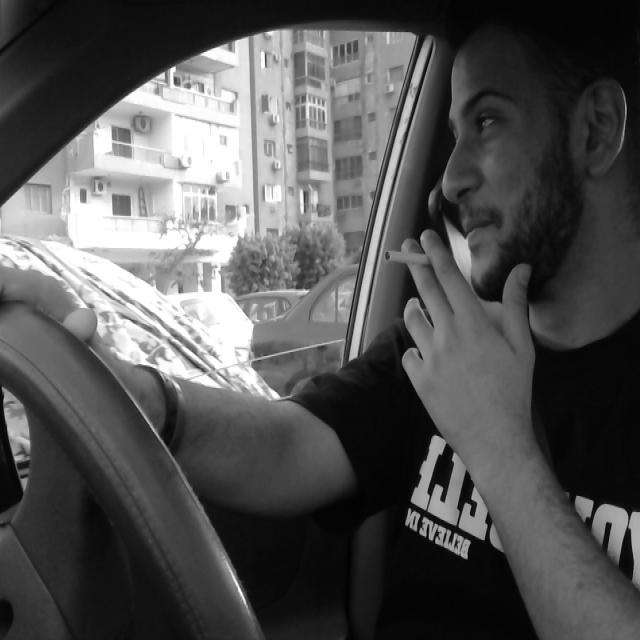smoking: (382, 230, 448, 274)
